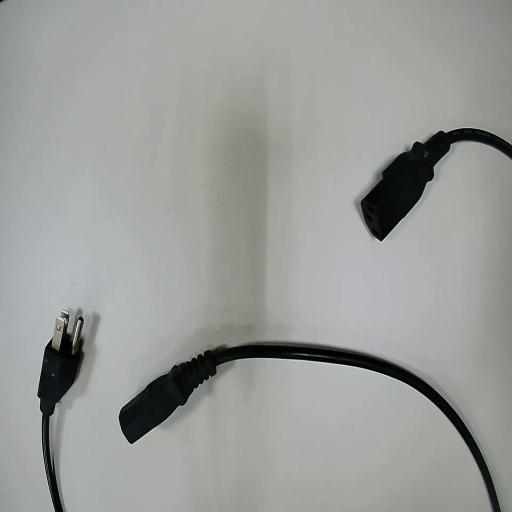wire: (120, 344, 499, 511), (361, 129, 511, 239), (39, 325, 82, 511)
